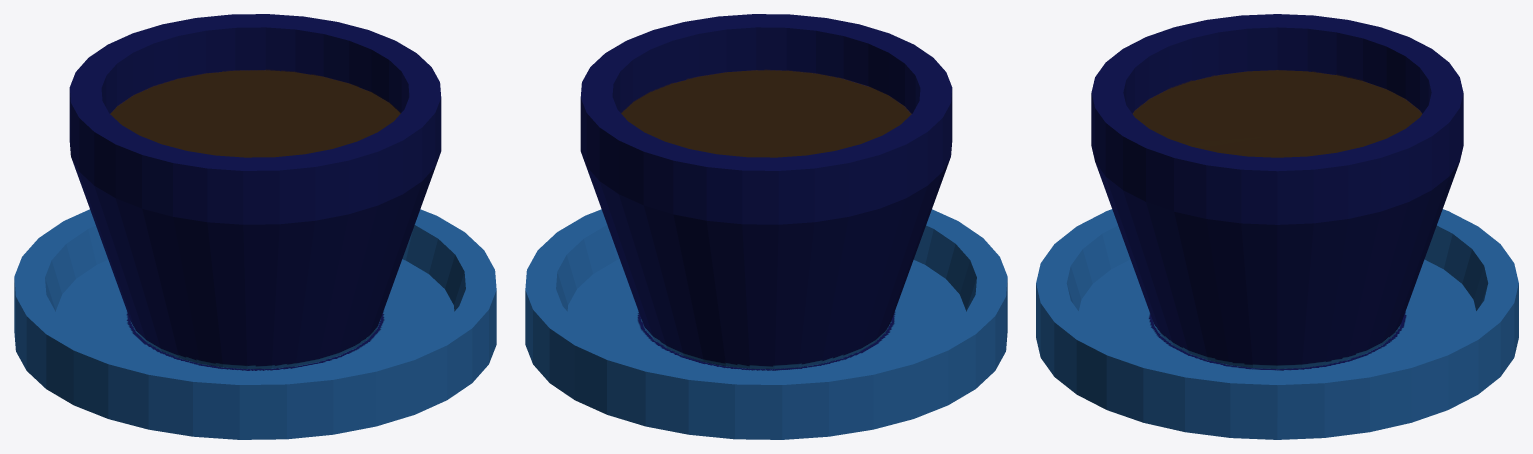
File: Pot.fbx
3 renders of one model, left to right at view 1: azimuth 30°, elevation 25°; view 2: azimuth 150°, elevation 25°; view 3: azimuth 270°, elevation 25°, orthographic.
Parts seen in each view (by area): view 1: Pot; view 2: Pot; view 3: Pot.
Boxes of the visible parts, box(x1,y1,x2,y2) form: Pot: box(14, 14, 496, 439); Pot: box(525, 14, 1007, 439); Pot: box(1036, 14, 1518, 439).
Bounding box in the file's own units: 40 × 22.43 × 40.
